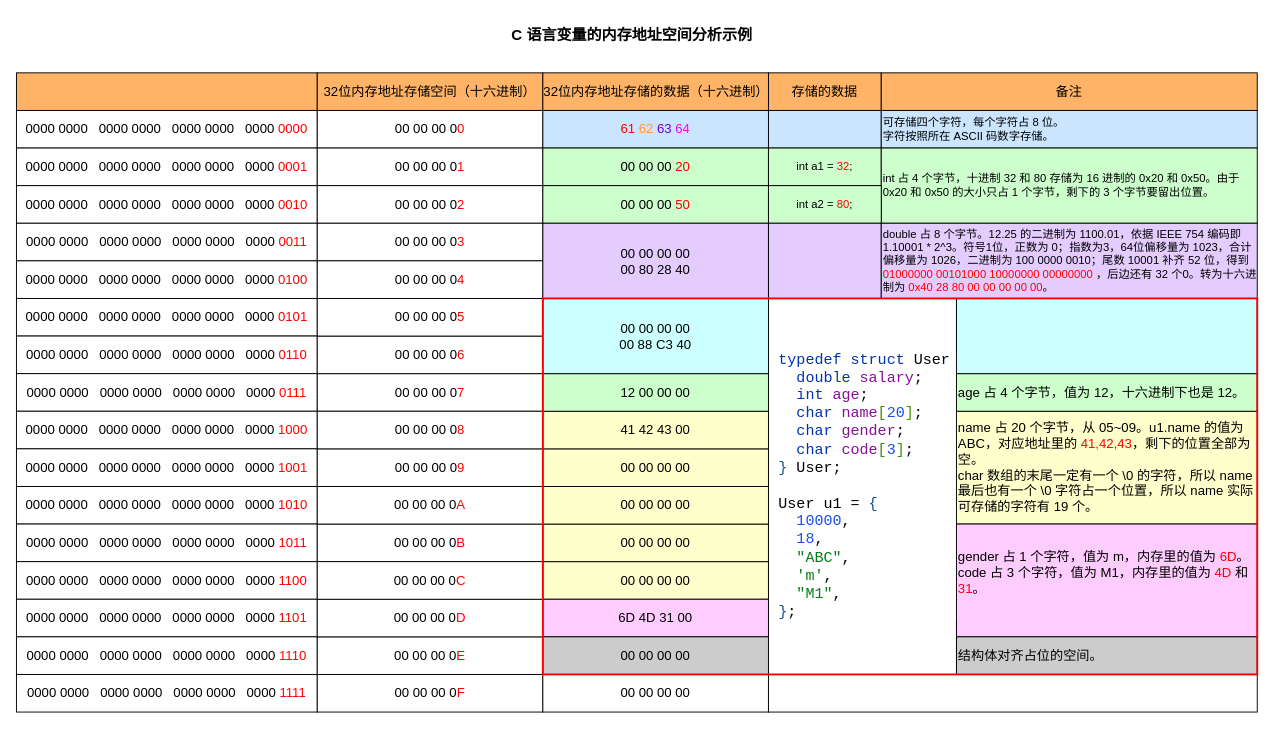
Some shapes in this 1275 by 729 pixel diagram are drawn without their labels. Here are the shapes that lost their labels. From the top down, the centre of each, then its label:
pixel 166 91: 32位内存地址存储空间（二进制）
pixel 824 129: char a b c d
pixel 824 260: double a3 = 12.25 ;
pixel 1106 336: double 占 8 个字节， 10000 转为机器码为 0x00 00 00 00 00 88 C3 40 。
pixel 1012 693: 未被使用的内存空间。
